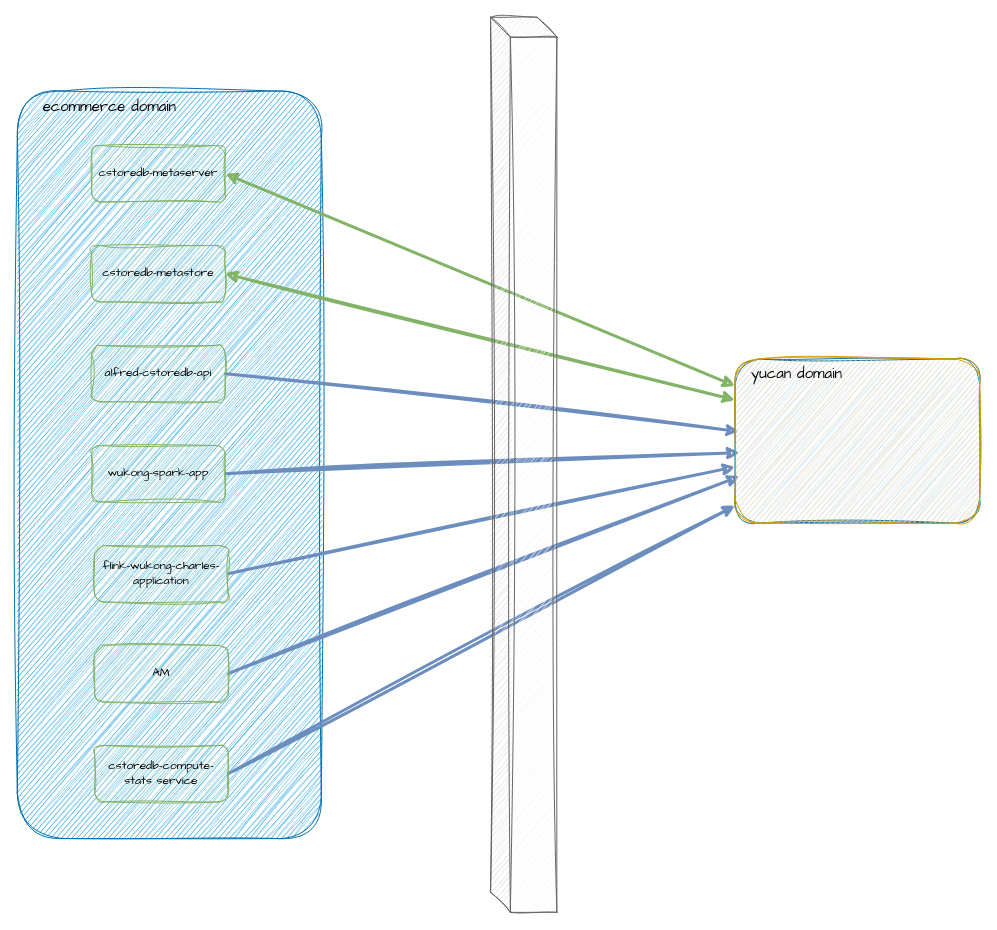
Some shapes in this 997 by 930 pixel diagram are drawn without their labels. The shapes that lost their labels are listed below. From the top down, each one's box as (x1, y1, x2, y2) in pixels, then its label:
(734, 358, 980, 523): CStoreDB yucan service
(490, 16, 557, 912): PNC网络控制
